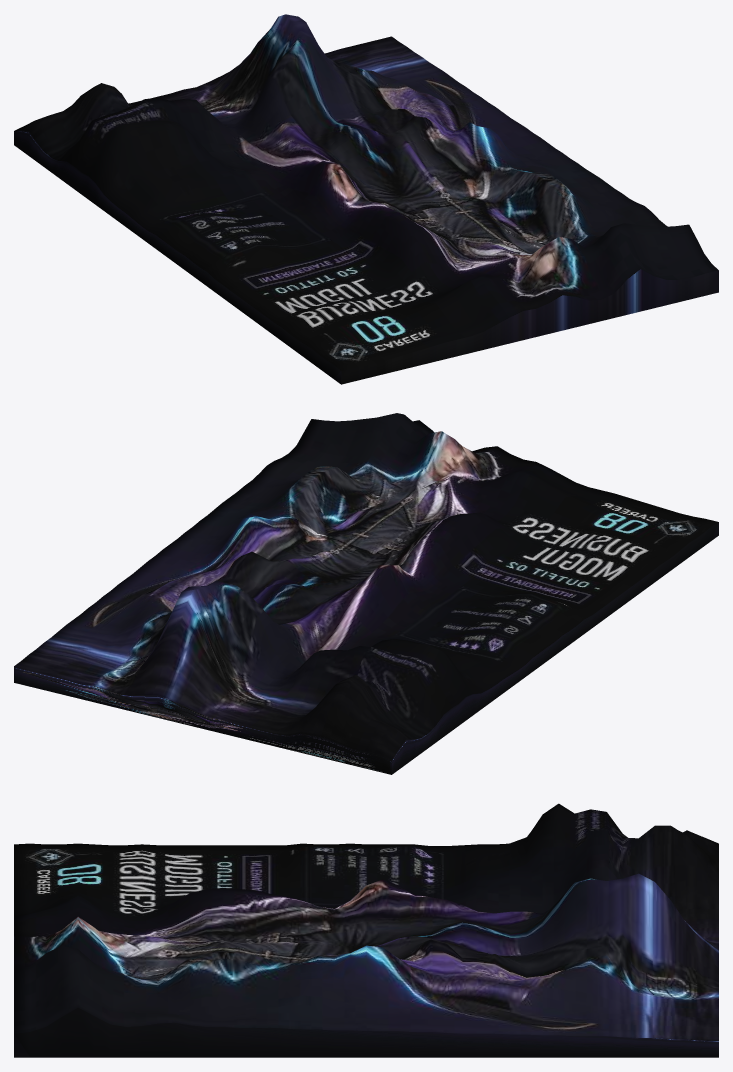
Rendered from CAREER_08_Outfit_02_Intermediate.glb.
The picture shows the model from 3 angles, top to bottom: view 1: azimuth 30°, elevation 25°; view 2: azimuth 150°, elevation 25°; view 3: azimuth 270°, elevation 25°; orthographic projection. The views are drawn at different scales.
Parts seen in each view (by area): view 1: CAREER_08_Outfit_02_Intermediate; view 2: CAREER_08_Outfit_02_Intermediate; view 3: CAREER_08_Outfit_02_Intermediate.
Boxes of the visible parts, box(x1,y1,x2,y2) form: CAREER_08_Outfit_02_Intermediate: box(14, 14, 718, 384); CAREER_08_Outfit_02_Intermediate: box(14, 413, 718, 774); CAREER_08_Outfit_02_Intermediate: box(14, 803, 718, 1057).
Bounding box in the file's own units: 2 × 0.51 × 3.
1 material, 1 textured.
